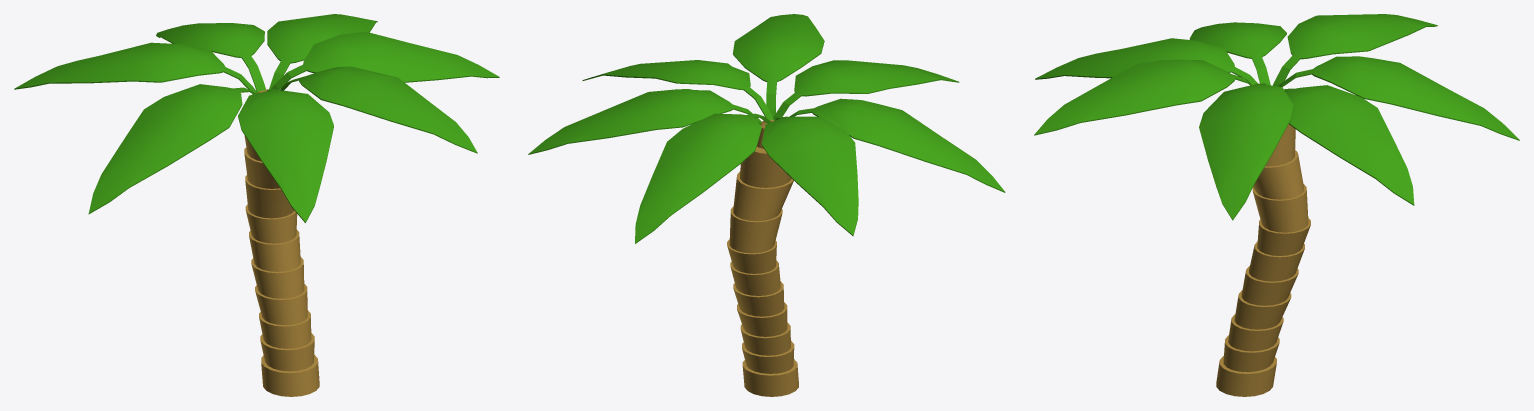
File: FullPalmTreeObject.fbx
The picture shows the model from 3 angles, left to right: view 1: azimuth 30°, elevation 25°; view 2: azimuth 150°, elevation 25°; view 3: azimuth 270°, elevation 25°; orthographic projection. The views are drawn at different scales.
Visible parts, largest first — view 1: PalmTree, PalmTreeLeaf005, PalmTreeLeaf006, PalmTreeLeaf002, PalmTreeLeaf003, PalmTreeLeaf004, PalmTreeLeaf001, PalmTreeLeaf; view 2: PalmTree, PalmTreeLeaf, PalmTreeLeaf004, PalmTreeLeaf005, PalmTreeLeaf001, PalmTreeLeaf003, PalmTreeLeaf006, PalmTreeLeaf002; view 3: PalmTree, PalmTreeLeaf002, PalmTreeLeaf001, PalmTreeLeaf003, PalmTreeLeaf, PalmTreeLeaf004, PalmTreeLeaf006, PalmTreeLeaf005.
Part boxes in pixels (x1,y1,x2,y2): PalmTree: (244,89,319,396); PalmTreeLeaf005: (88,84,255,214); PalmTreeLeaf006: (238,89,333,222); PalmTreeLeaf002: (271,31,499,89); PalmTreeLeaf003: (280,66,477,153); PalmTreeLeaf004: (14,42,256,94); PalmTreeLeaf001: (267,14,377,89); PalmTreeLeaf: (156,23,266,93); PalmTree: (727,119,798,396); PalmTreeLeaf: (635,113,771,243); PalmTreeLeaf004: (761,116,858,235); PalmTreeLeaf005: (789,98,1005,192); PalmTreeLeaf001: (528,89,761,154); PalmTreeLeaf003: (733,14,824,117); PalmTreeLeaf006: (773,60,959,120); PalmTreeLeaf002: (582,60,773,119); PalmTree: (1216,124,1310,396); PalmTreeLeaf002: (1199,83,1293,220); PalmTreeLeaf001: (1284,85,1414,205); PalmTreeLeaf003: (1034,59,1251,135); PalmTreeLeaf: (1278,56,1519,140); PalmTreeLeaf004: (1273,14,1437,86); PalmTreeLeaf006: (1035,38,1257,85); PalmTreeLeaf005: (1189,22,1286,85).
Bounding box in the file's own units: 413 × 407 × 303.
